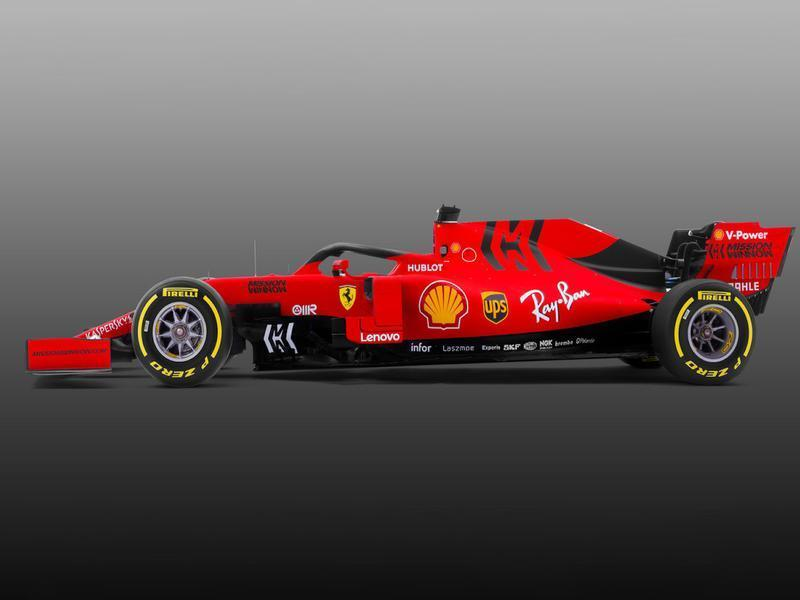f1: (25, 197, 796, 394)
